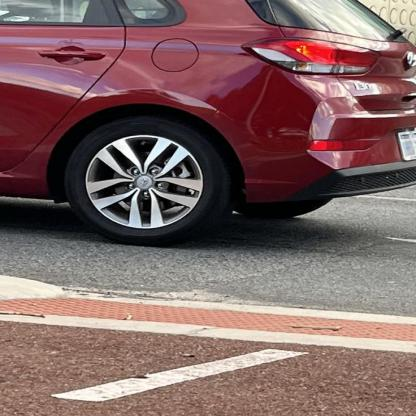Tire: (63, 116, 233, 245)
